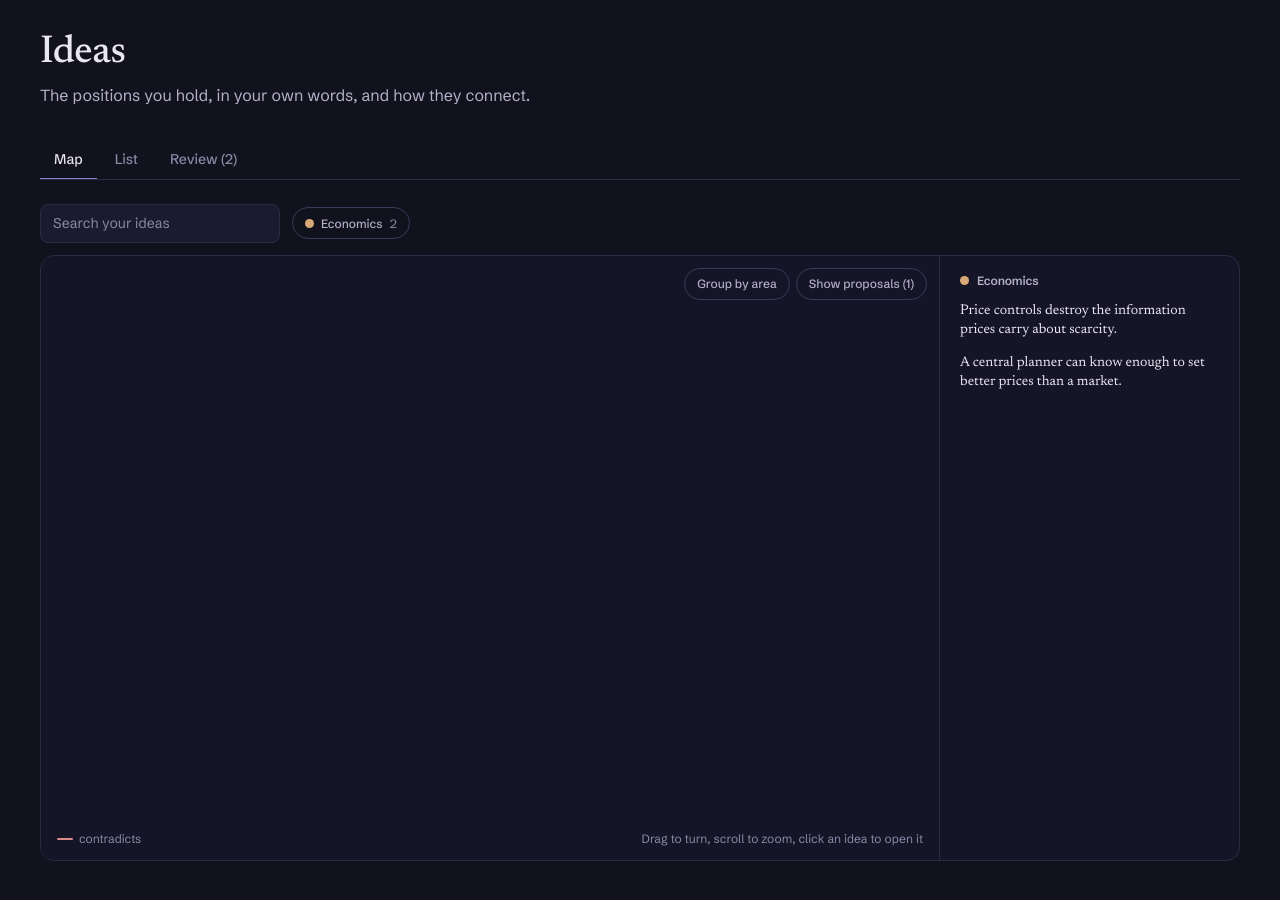
Scenario: Ideas screen › opens on the map, and lists on request
The width and height of the screenshot is (1280, 900).
expect the picture named "Ideas graph" is shown: met, box [41,256,939,860]
expect the heading "Economics" is shown: met, box [960,273,1039,288]
Press the mouse on the tab "List" at (126, 160), box [101,140,152,180]
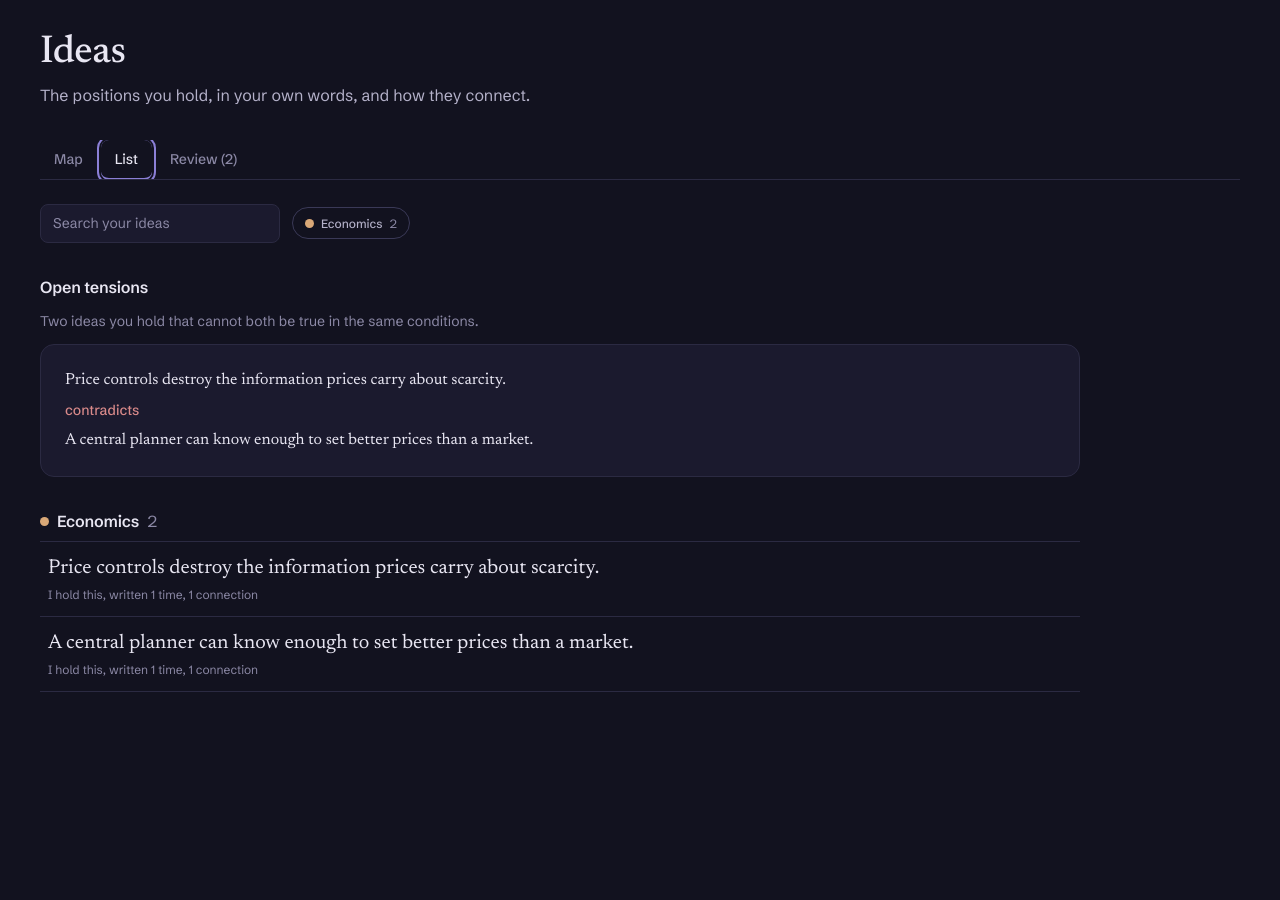
expect the heading "Economics 2" is shown: met, box [40,511,157,531]
